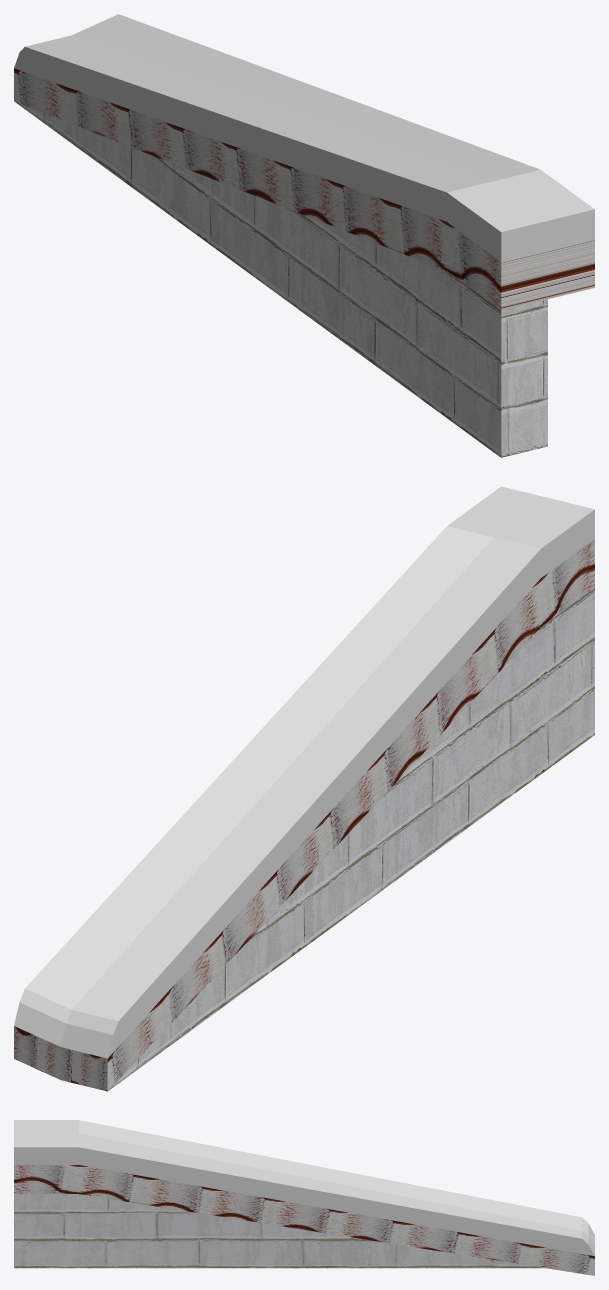
Rendered from RoofEndcapR.fbx.
The picture shows the model from 3 angles, top to bottom: view 1: azimuth 30°, elevation 25°; view 2: azimuth 150°, elevation 25°; view 3: azimuth 270°, elevation 25°; orthographic projection. The views are drawn at different scales.
Parts seen in each view (by area): view 1: Cube.038; view 2: Cube.038; view 3: Cube.038.
Part boxes in pixels (x1,y1,x2,y2): Cube.038: (14, 14, 594, 457); Cube.038: (14, 486, 594, 1091); Cube.038: (14, 1120, 594, 1275).
Bounding box in the file's own units: 50 × 115 × 450.
